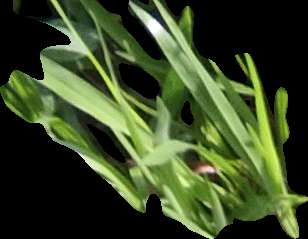grass: (1, 1, 307, 238)
